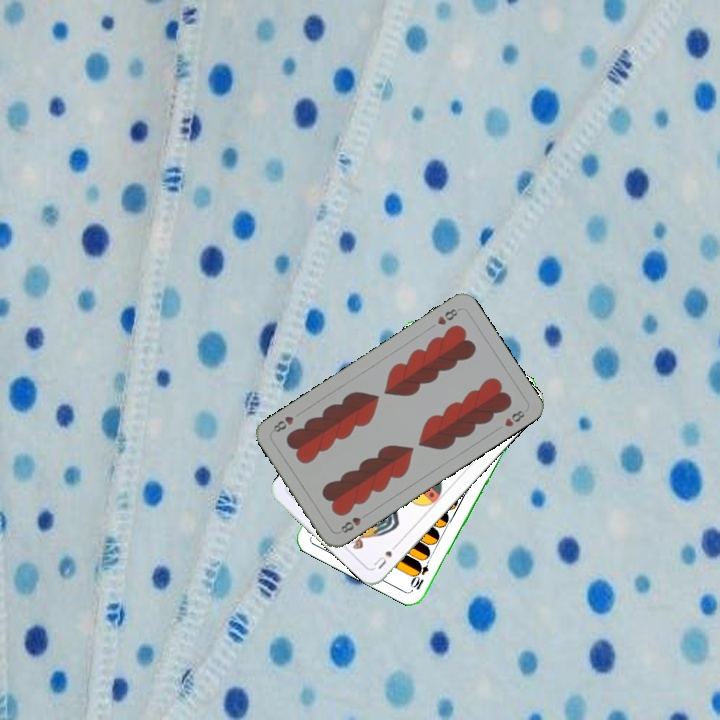E10: (408, 553, 433, 592)
H8: (337, 509, 371, 536), (433, 304, 462, 328)
SU: (369, 538, 402, 572)
